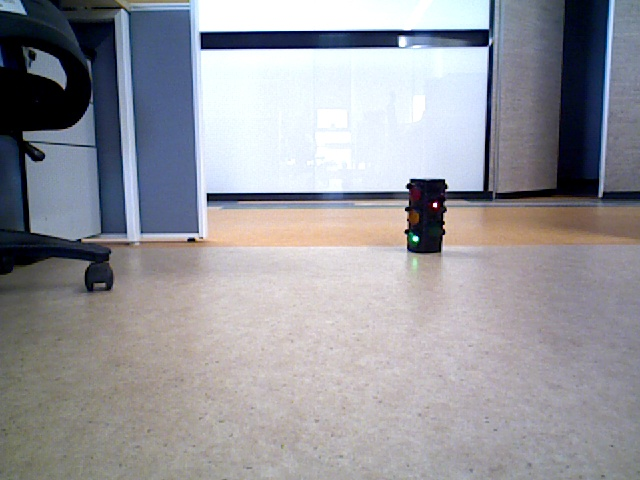green: (406, 180, 440, 250)
